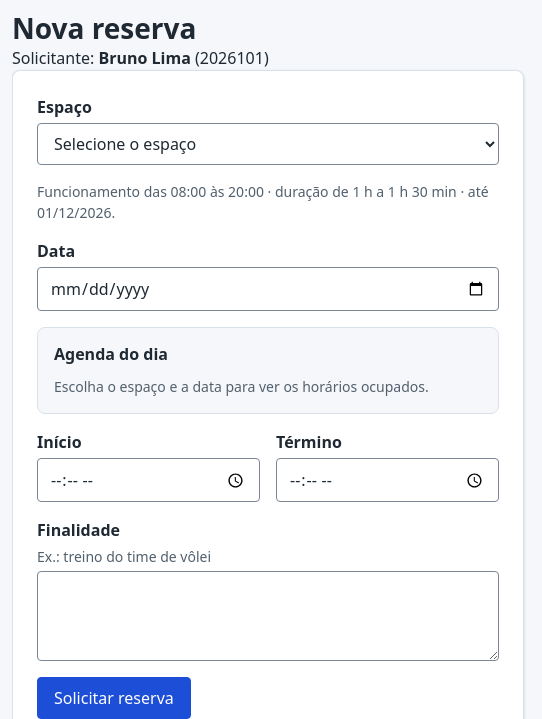
Test: PaginaNovaReserva › "Usar este horário" preenche Início e Término, limitado pela duração máxima, e foca Término
The width and height of the screenshot is (542, 719).
Select "Ginásio A (Ginásio)" in the dropdown labelled "Espaço" at (268, 144), box [37, 123, 499, 165]
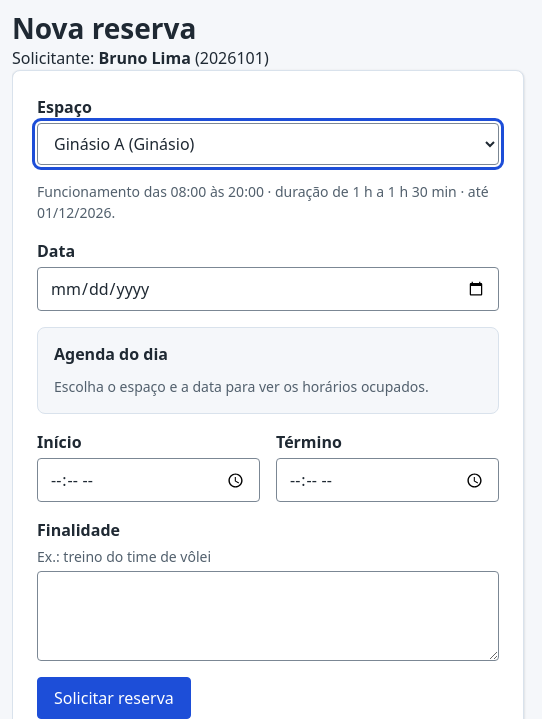
Type "2026-10-25" into the date field labelled "Data".
click(268, 289); type("2026-10-25")  # box [37, 267, 499, 311]
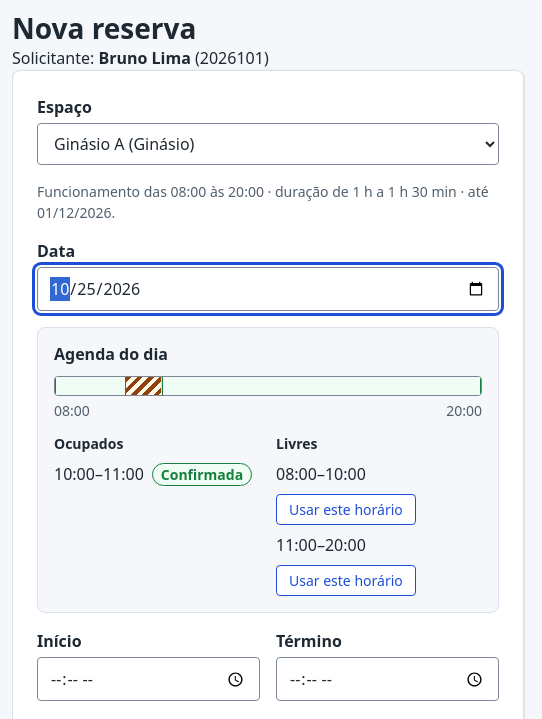
Click the button with aria-label "Usar este horário, 11:00–20:00".
click(346, 581)  # box [276, 565, 416, 596]
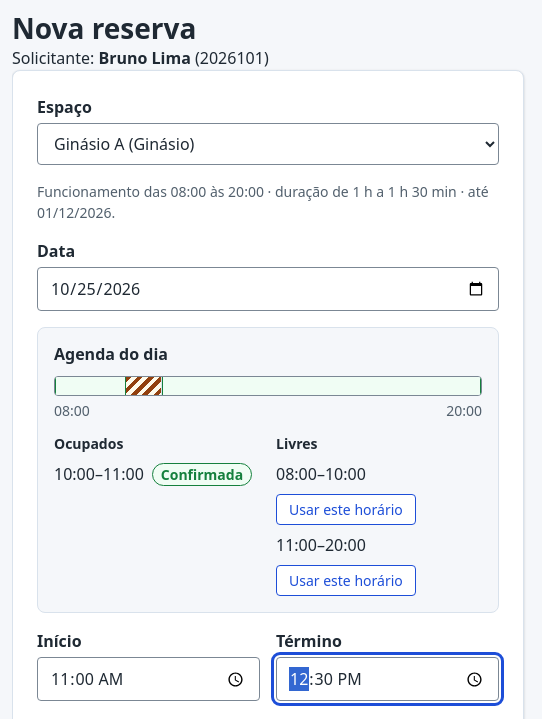
Expected: the time field labelled "Início" holds "11:00", [37, 657, 260, 701]
Expected: the time field labelled "Término" holds "12:30", [276, 657, 499, 701]
